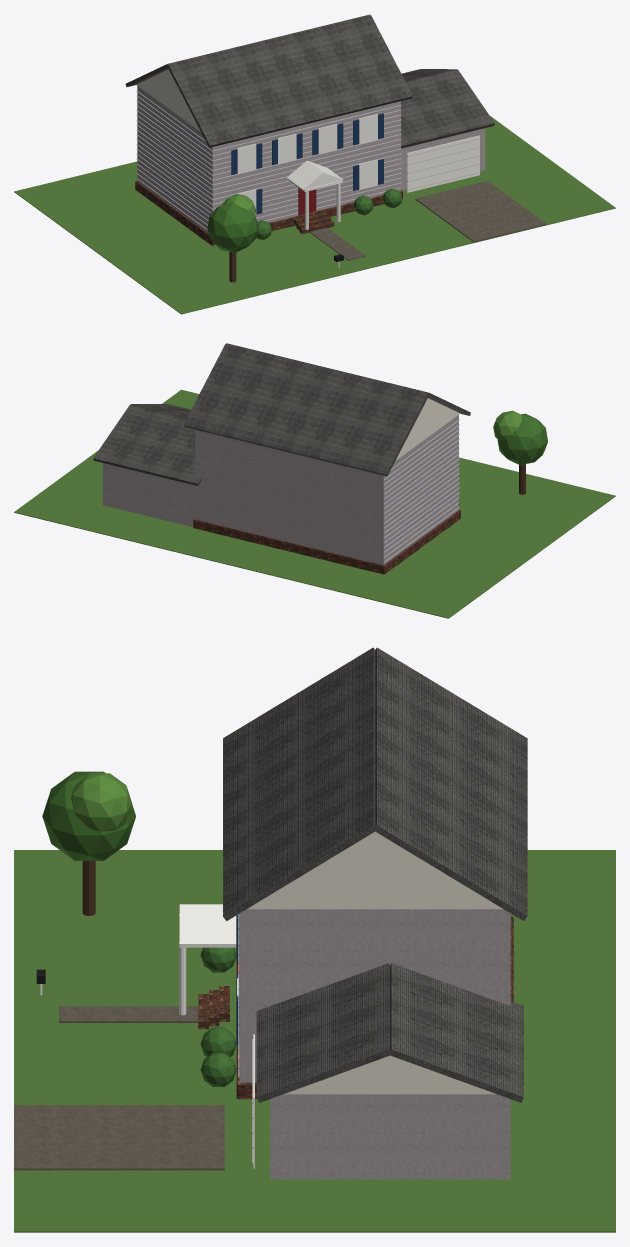
The model's file is OT_House_A.glb.
3 renders of one model, top to bottom at view 1: azimuth 30°, elevation 25°; view 2: azimuth 150°, elevation 25°; view 3: azimuth 270°, elevation 25°, orthographic. The views are drawn at different scales.
Visible parts, largest first — view 1: OT_House_A_Lawn__567d3a, OT_House_A_Shingle, OT_House_A_Siding, OT_House_A_LapShadow__c9cbd0, OT_House_A_Concrete, OT_House_A_TrimWhite__f0efe9, OT_House_A_GarageDoor__f0efe9, OT_House_A_Brick, OT_House_A_Leaf__3f6e2c, OT_House_A_Shutter__1f3a5c, OT_House_A_Gable__e8e2d4, OT_House_A_Shrub__3e6b2f (+1 smaller); view 2: OT_House_A_Lawn__567d3a, OT_House_A_Siding, OT_House_A_Shingle, OT_House_A_Brick, OT_House_A_LapShadow__c9cbd0, OT_House_A_Leaf__3f6e2c, OT_House_A_Gable__e8e2d4, OT_House_A_Leaf2__58893a; view 3: OT_House_A_Lawn__567d3a, OT_House_A_Shingle, OT_House_A_Siding, OT_House_A_Concrete, OT_House_A_Gable__e8e2d4, OT_House_A_Leaf__3f6e2c, OT_House_A_TrimWhite__f0efe9, OT_House_A_Leaf2__58893a, OT_House_A_Shrub__3e6b2f, OT_House_A_Brick.
Part boxes in pixels (bbox=[...]): OT_House_A_Lawn__567d3a: bbox=[14, 116, 615, 314]; OT_House_A_Shingle: bbox=[125, 14, 494, 148]; OT_House_A_Siding: bbox=[137, 86, 485, 233]; OT_House_A_LapShadow__c9cbd0: bbox=[136, 91, 401, 230]; OT_House_A_Concrete: bbox=[309, 181, 546, 260]; OT_House_A_TrimWhite__f0efe9: bbox=[237, 114, 377, 229]; OT_House_A_GarageDoor__f0efe9: bbox=[407, 135, 479, 192]; OT_House_A_Brick: bbox=[135, 181, 402, 245]; OT_House_A_Leaf__3f6e2c: bbox=[207, 203, 258, 252]; OT_House_A_Shutter__1f3a5c: bbox=[231, 113, 383, 214]; OT_House_A_Gable__e8e2d4: bbox=[136, 69, 200, 131]; OT_House_A_Shrub__3e6b2f: bbox=[256, 188, 402, 239]; OT_House_A_Lawn__567d3a: bbox=[14, 389, 615, 618]; OT_House_A_Siding: bbox=[102, 415, 458, 565]; OT_House_A_Shingle: bbox=[93, 343, 470, 485]; OT_House_A_Brick: bbox=[193, 509, 460, 574]; OT_House_A_LapShadow__c9cbd0: bbox=[384, 419, 459, 562]; OT_House_A_Leaf__3f6e2c: bbox=[497, 413, 547, 464]; OT_House_A_Gable__e8e2d4: bbox=[395, 398, 460, 460]; OT_House_A_Leaf2__58893a: bbox=[493, 410, 521, 441]; OT_House_A_Lawn__567d3a: bbox=[14, 850, 615, 1232]; OT_House_A_Shingle: bbox=[223, 647, 527, 1102]; OT_House_A_Siding: bbox=[239, 909, 510, 1179]; OT_House_A_Concrete: bbox=[14, 1006, 224, 1170]; OT_House_A_Gable__e8e2d4: bbox=[247, 831, 503, 1094]; OT_House_A_Leaf__3f6e2c: bbox=[42, 771, 135, 860]; OT_House_A_TrimWhite__f0efe9: bbox=[179, 904, 238, 1015]; OT_House_A_Leaf2__58893a: bbox=[71, 773, 132, 831]; OT_House_A_Shrub__3e6b2f: bbox=[200, 947, 236, 1086]; OT_House_A_Brick: bbox=[198, 916, 513, 1099].
Size of the model in its own units: 30 by 10.26 by 20.
Materials: 21 (4 with a texture image).
